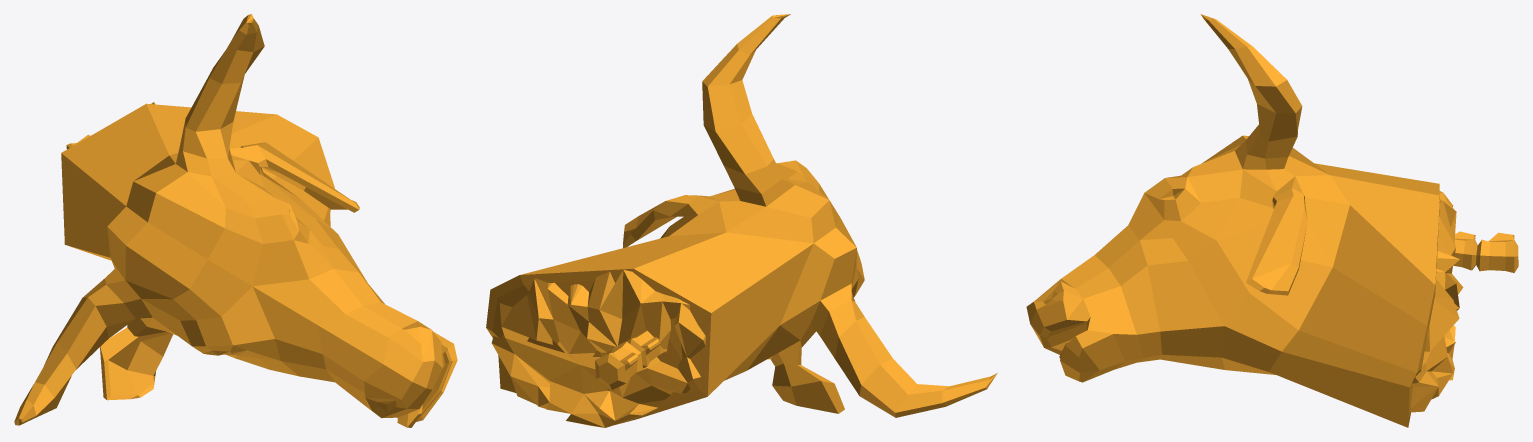
The model's file is SM_Cow_Dead_Head_A.fbx.
3 views of the same model, side by side, from view 1: azimuth 30°, elevation 25°; view 2: azimuth 150°, elevation 25°; view 3: azimuth 270°, elevation 25° (orthographic). The views are drawn at different scales.
Visible parts, largest first — view 1: cow-dead-head-a; view 2: cow-dead-head-a; view 3: cow-dead-head-a.
Boxes of the visible parts, x1,y1,x2,y2 form: cow-dead-head-a: (14, 14, 457, 427); cow-dead-head-a: (486, 14, 997, 427); cow-dead-head-a: (1026, 14, 1518, 427).
Size of the model in its own units: 0.8836 by 0.7412 by 0.9788.
